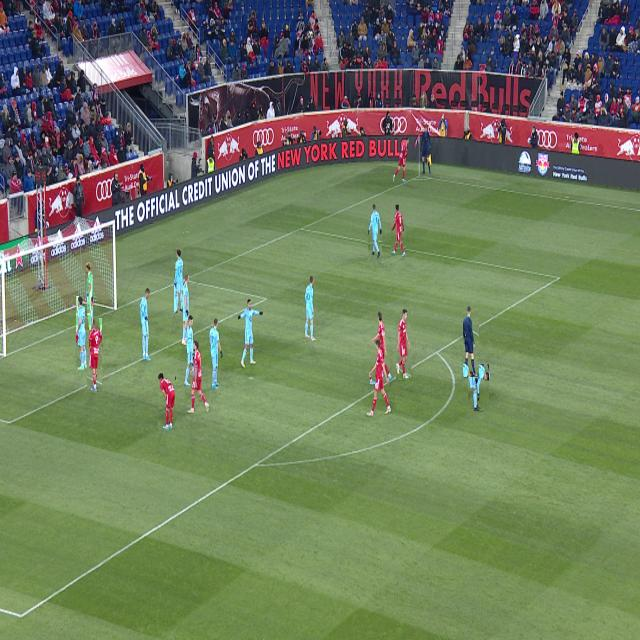goalkeeper: (86, 263, 93, 330)
player: (367, 338, 391, 417), (238, 299, 263, 368), (188, 340, 209, 413), (371, 311, 392, 381), (396, 309, 411, 379), (88, 318, 102, 392), (209, 318, 223, 389), (469, 364, 489, 411), (159, 373, 175, 430), (77, 297, 89, 371), (139, 288, 151, 361), (391, 203, 406, 257), (304, 275, 316, 341), (368, 204, 382, 260), (184, 315, 194, 386), (181, 274, 189, 346), (175, 249, 183, 313), (370, 377, 376, 384), (193, 371, 194, 376)
referee: (463, 306, 479, 377)
